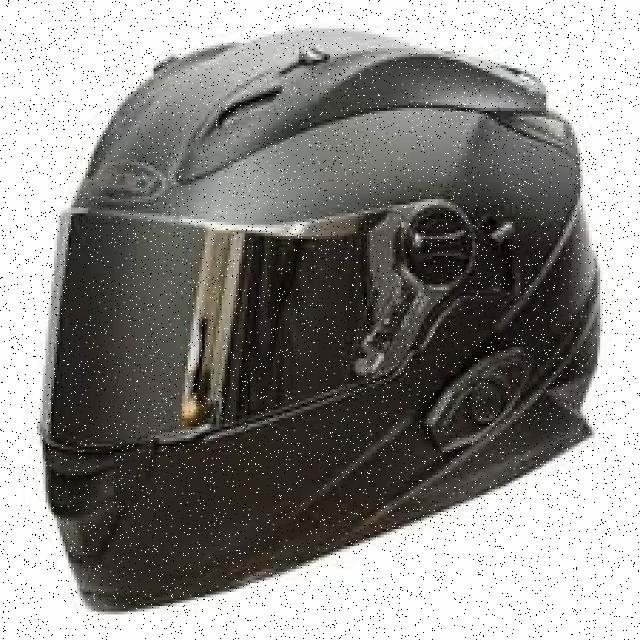Helmet: (41, 47, 628, 611), (12, 18, 378, 564)
